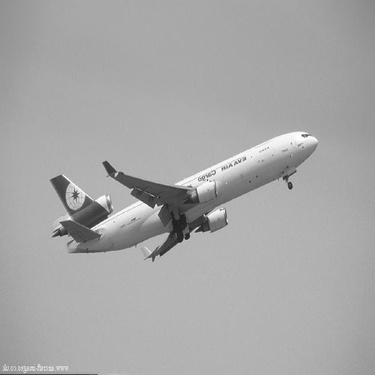airplane: (7, 114, 328, 265)
